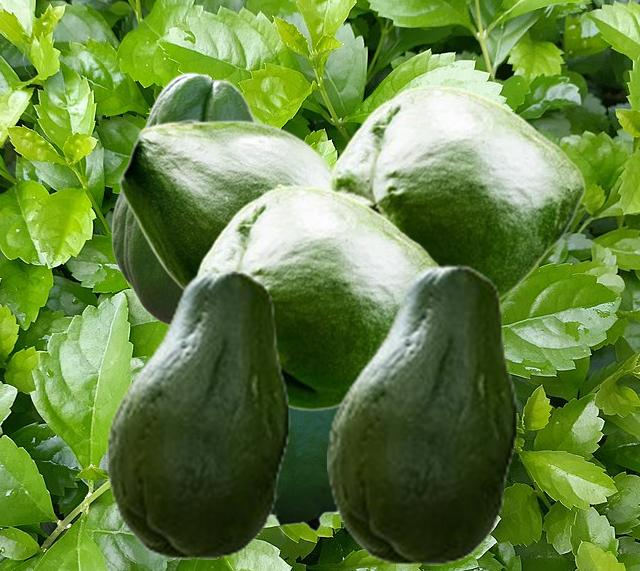sayote: (327, 264, 517, 564), (326, 84, 585, 302), (193, 184, 442, 410), (106, 269, 289, 558), (111, 72, 255, 324), (119, 119, 331, 290), (271, 409, 336, 536)
